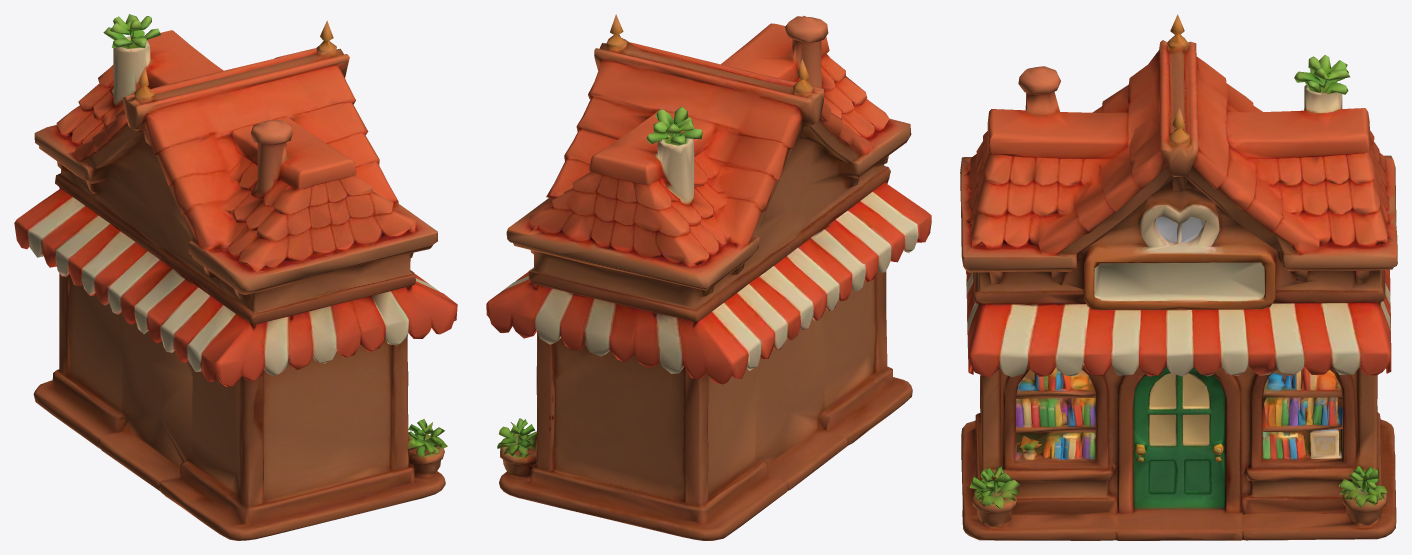
File: bookstore.glb
3 views of the same model, side by side, from view 1: azimuth 30°, elevation 25°; view 2: azimuth 150°, elevation 25°; view 3: azimuth 270°, elevation 25° (orthographic). The views are drawn at different scales.
Parts seen in each view (by area): view 1: tripo_node_65faf2e1-1aa4-42cc-b0aa-7363db6fc7f3; view 2: tripo_node_65faf2e1-1aa4-42cc-b0aa-7363db6fc7f3; view 3: tripo_node_65faf2e1-1aa4-42cc-b0aa-7363db6fc7f3.
Boxes of the visible parts, left/top/right/bottom form: tripo_node_65faf2e1-1aa4-42cc-b0aa-7363db6fc7f3: left=14, top=14, right=457, bottom=540; tripo_node_65faf2e1-1aa4-42cc-b0aa-7363db6fc7f3: left=486, top=14, right=931, bottom=540; tripo_node_65faf2e1-1aa4-42cc-b0aa-7363db6fc7f3: left=960, top=14, right=1397, bottom=540.
Size of the model in its own units: 0.3217 by 0.5 by 0.4688.
Materials: 1 (1 with a texture image).
